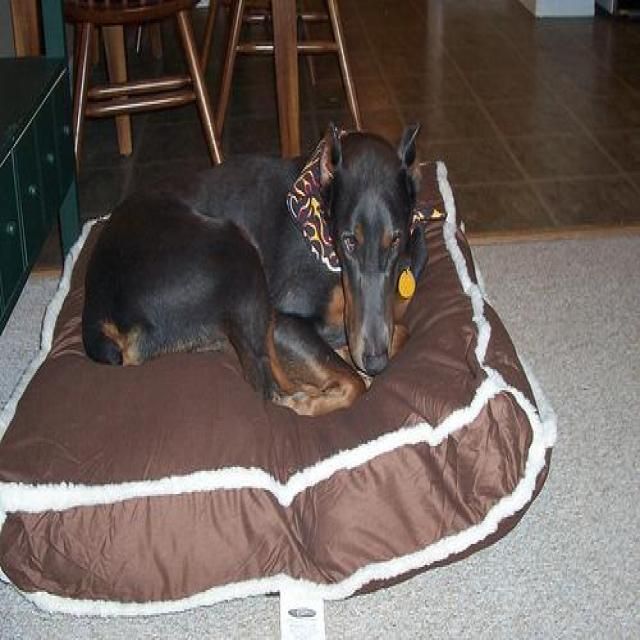relax: (69, 128, 445, 406)
